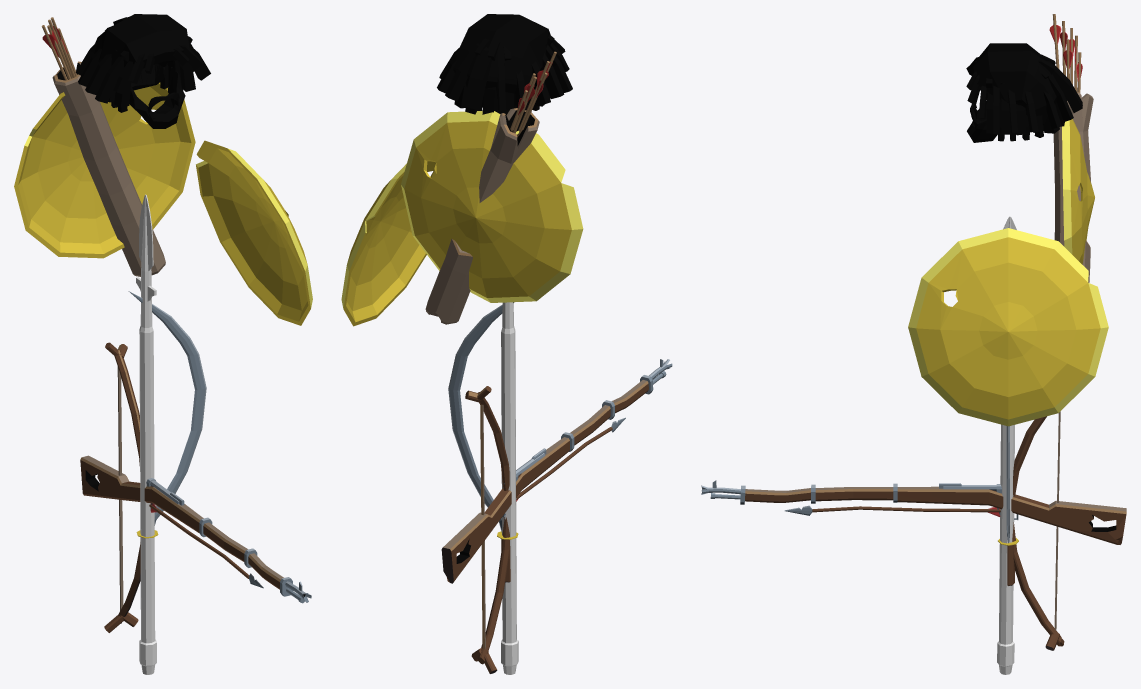
The model's file is Lo_poly_Character_Assets (1).fbx.
3 renders of one model, left to right at view 1: azimuth 30°, elevation 25°; view 2: azimuth 150°, elevation 25°; view 3: azimuth 270°, elevation 25°, orthographic. The views are drawn at different scales.
Visible parts, largest first — view 1: sheild2, sheild1, bow_Storage, Cylinder, Left_Leg.002, rifle, hair3, bow, sword, hair2, Arrow; view 2: sheild2, sheild1, bow_Storage, hair3, rifle, Cylinder, Left_Leg.002, bow, sword, Arrow; view 3: sheild1, rifle, hair3, Left_Leg.002, bow_Storage, sheild2, Cylinder, bow, Arrow, sword.
Boxes of the visible parts, x1=… form: sheild2: x1=14, y1=82, x2=195, y2=258; sheild1: x1=196, y1=140, x2=312, y2=325; bow_Storage: x1=41, y1=17, x2=165, y2=276; Cylinder: x1=136, y1=194, x2=156, y2=674; Left_Leg.002: x1=94, y1=14, x2=189, y2=123; rifle: x1=80, y1=455, x2=311, y2=603; hair3: x1=75, y1=16, x2=210, y2=112; bow: x1=104, y1=342, x2=140, y2=632; sword: x1=128, y1=291, x2=206, y2=538; hair2: x1=130, y1=64, x2=179, y2=128; Arrow: x1=149, y1=503, x2=263, y2=588; sheild2: x1=401, y1=111, x2=583, y2=302; sheild1: x1=341, y1=161, x2=436, y2=326; bow_Storage: x1=425, y1=51, x2=556, y2=324; hair3: x1=437, y1=34, x2=572, y2=114; rifle: x1=441, y1=359, x2=672, y2=583; Cylinder: x1=501, y1=302, x2=518, y2=674; Left_Leg.002: x1=453, y1=14, x2=550, y2=107; bow: x1=465, y1=386, x2=509, y2=673; sword: x1=448, y1=302, x2=518, y2=582; Arrow: x1=516, y1=417, x2=625, y2=501; sheild1: x1=908, y1=228, x2=1108, y2=426; rifle: x1=701, y1=480, x2=1126, y2=544; hair3: x1=966, y1=54, x2=1082, y2=141; Left_Leg.002: x1=970, y1=43, x2=1059, y2=139; bow_Storage: x1=1049, y1=14, x2=1093, y2=282; sheild2: x1=1062, y1=119, x2=1094, y2=264; Cylinder: x1=997, y1=216, x2=1016, y2=674; bow: x1=1012, y1=411, x2=1064, y2=650; Arrow: x1=784, y1=505, x2=1000, y2=516; sword: x1=998, y1=426, x2=1018, y2=585.
Size of the model in its own units: 111 by 286 by 176.
